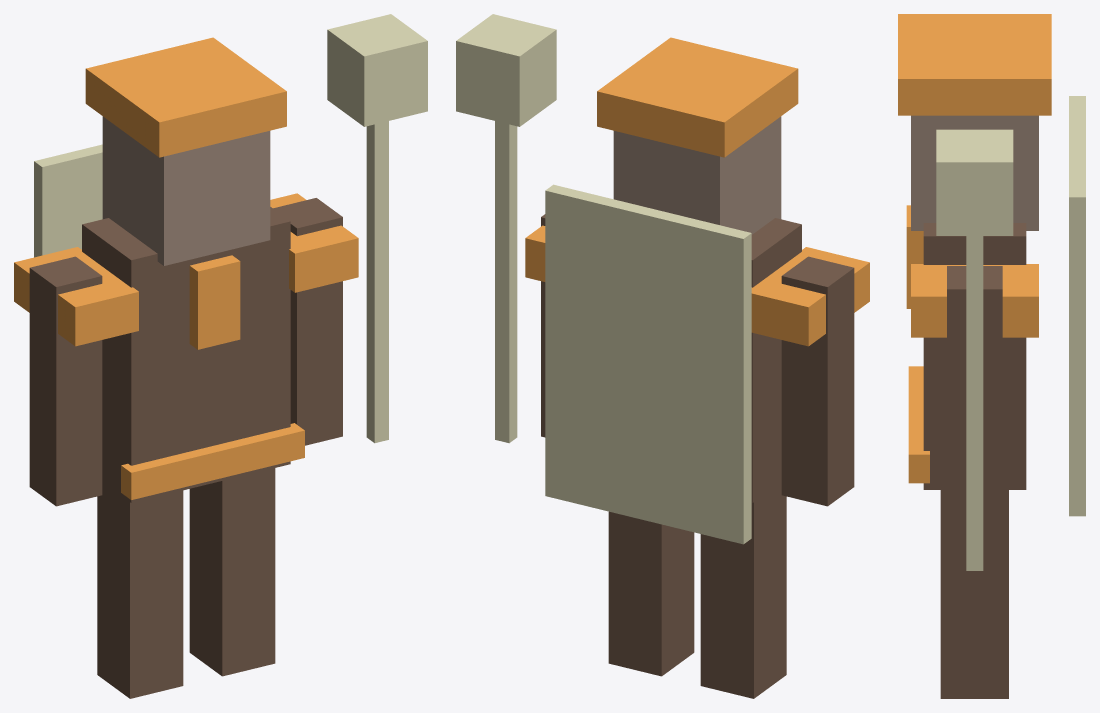
The model's file is 08_soren_spirebound_captain_from_glass.glb.
The picture shows the model from 3 angles, left to right: view 1: azimuth 30°, elevation 25°; view 2: azimuth 150°, elevation 25°; view 3: azimuth 270°, elevation 25°; orthographic projection. The views are drawn at different scales.
Visible parts, largest first — view 1: Soren Spirebound, Captain from Glass; view 2: Soren Spirebound, Captain from Glass; view 3: Soren Spirebound, Captain from Glass.
Boxes of the visible parts, left/top/right/bottom form: Soren Spirebound, Captain from Glass: left=14, top=14, right=427, bottom=698; Soren Spirebound, Captain from Glass: left=456, top=14, right=869, bottom=698; Soren Spirebound, Captain from Glass: left=898, top=14, right=1085, bottom=698.
Size of the model in its own units: 1.05 by 1.62 by 0.4481.
